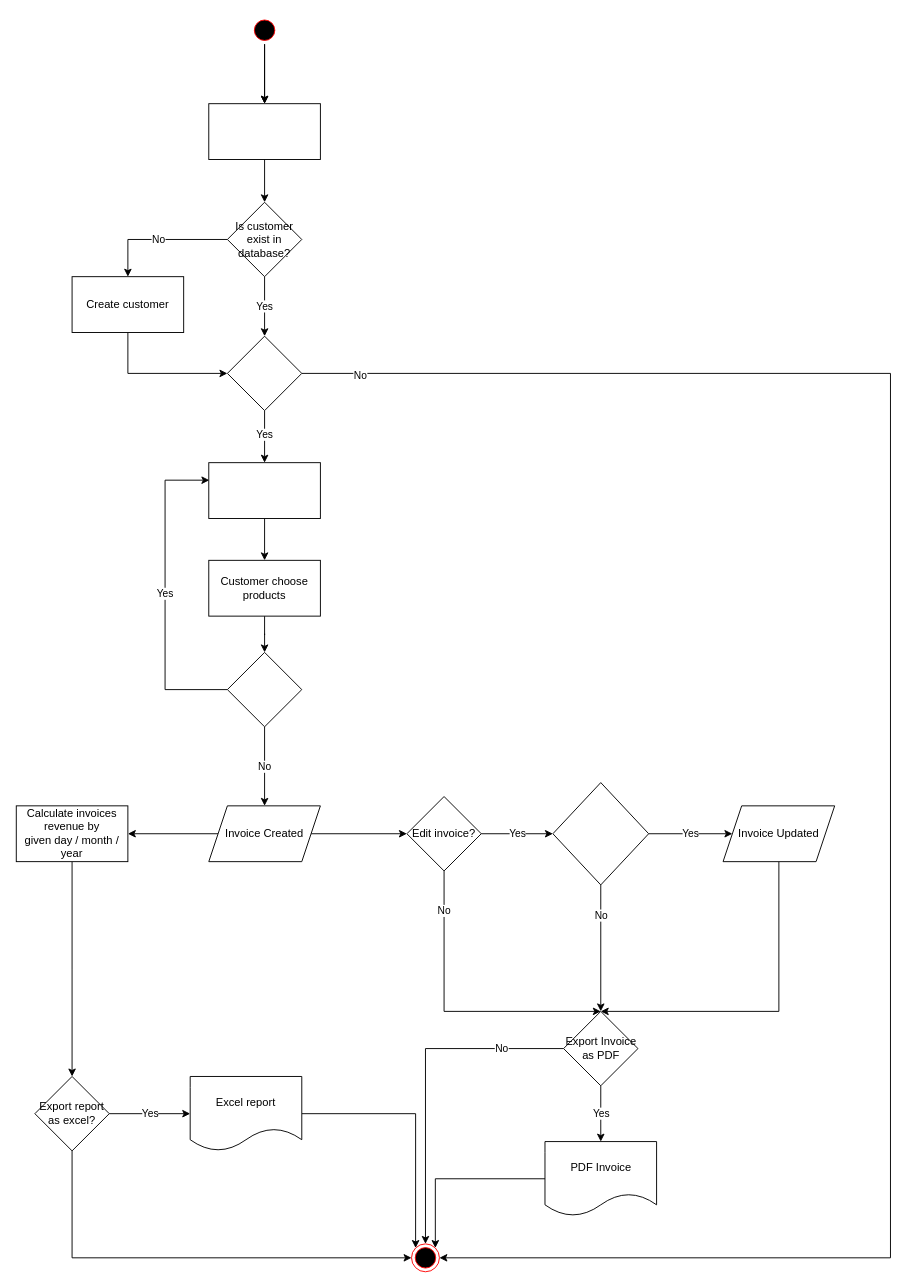
The diagram is 914 pixels wide and 1288 high, and some of its shapes have lost their labels. The shapes that lost their labels are listed below. From the top down, each one's centre as x and y in pixels, then its label:
the point at 264,131: Customer create an order
the point at 264,373: Is Customer Status Active?
the point at 264,490: Show all available products
the point at 264,689: Add another product?
the point at 600,833: Is it under 10 minutes since invoice created?
